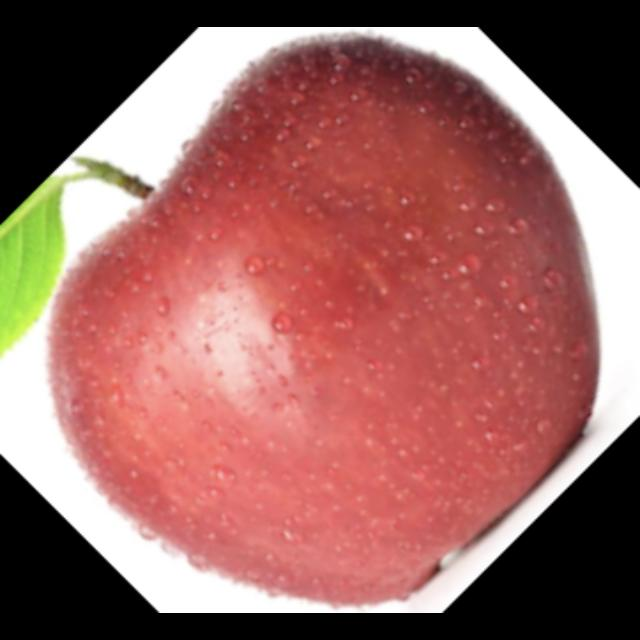Apel Segar: (24, 34, 624, 602)
